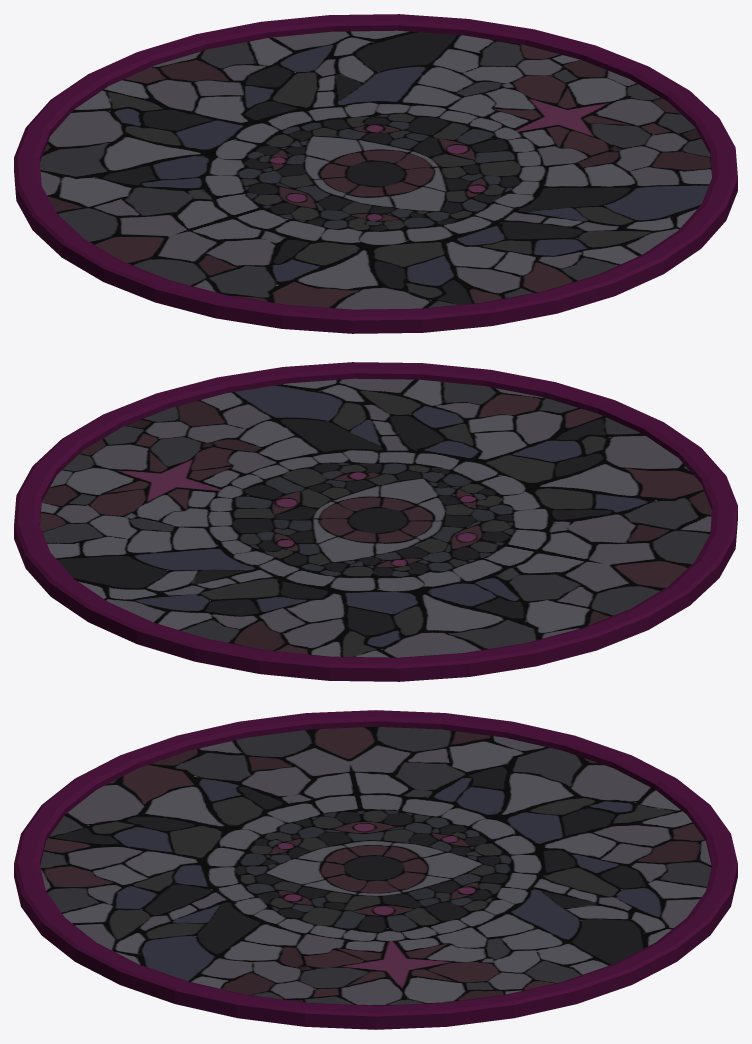
File: Elevator.fbx
3 renders of one model, top to bottom at view 1: azimuth 30°, elevation 25°; view 2: azimuth 150°, elevation 25°; view 3: azimuth 270°, elevation 25°, orthographic.
Visible parts, largest first — view 1: Evelator Top, RockSides; view 2: Evelator Top, RockSides; view 3: Evelator Top, RockSides.
Boxes of the visible parts, bbox=[...] form: Evelator Top: bbox=[40, 30, 711, 309]; RockSides: bbox=[14, 14, 737, 333]; Evelator Top: bbox=[40, 378, 711, 657]; RockSides: bbox=[14, 362, 737, 681]; Evelator Top: bbox=[40, 726, 711, 1005]; RockSides: bbox=[14, 710, 737, 1029].
Bounding box in the file's own units: 1006 × 70.91 × 1006.
Materials: 2 (1 with a texture image).
